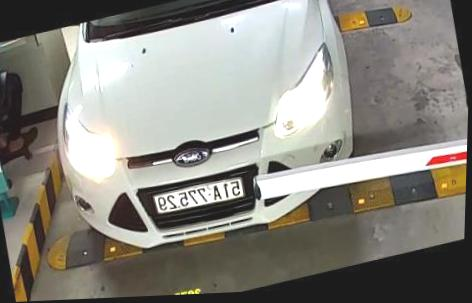License_Plate: (147, 172, 244, 222)
